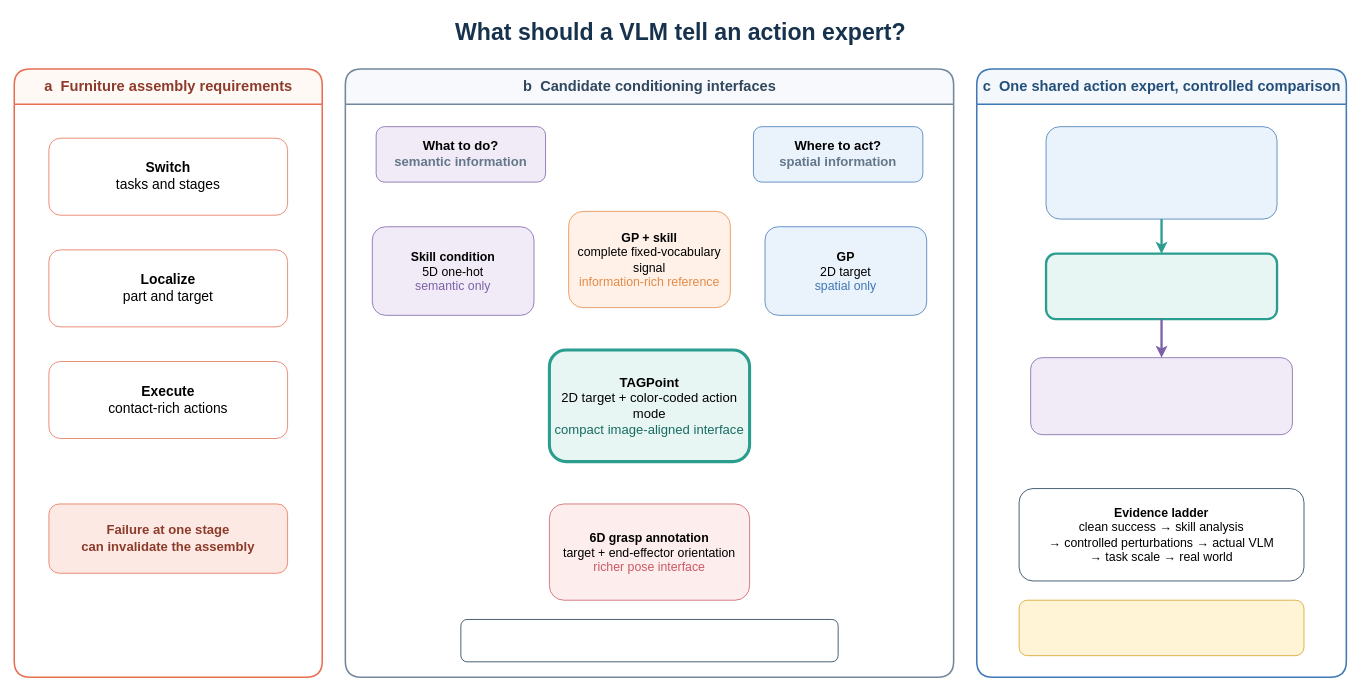
This 1360x691 diagram has some shape labels left out. The centre of each missing label's shape, as x and y in pixels:
Conditioning interface the experimental variable: point 1161,286
Recommended interface + measured failure boundary: point 1161,627
Shared DiT action expert same data · same capacity · same training: point 1161,396
VLM instruction understanding task decomposition visual grounding: point 1161,172
Which information is useful, robust, and extensible?: point 649,640
